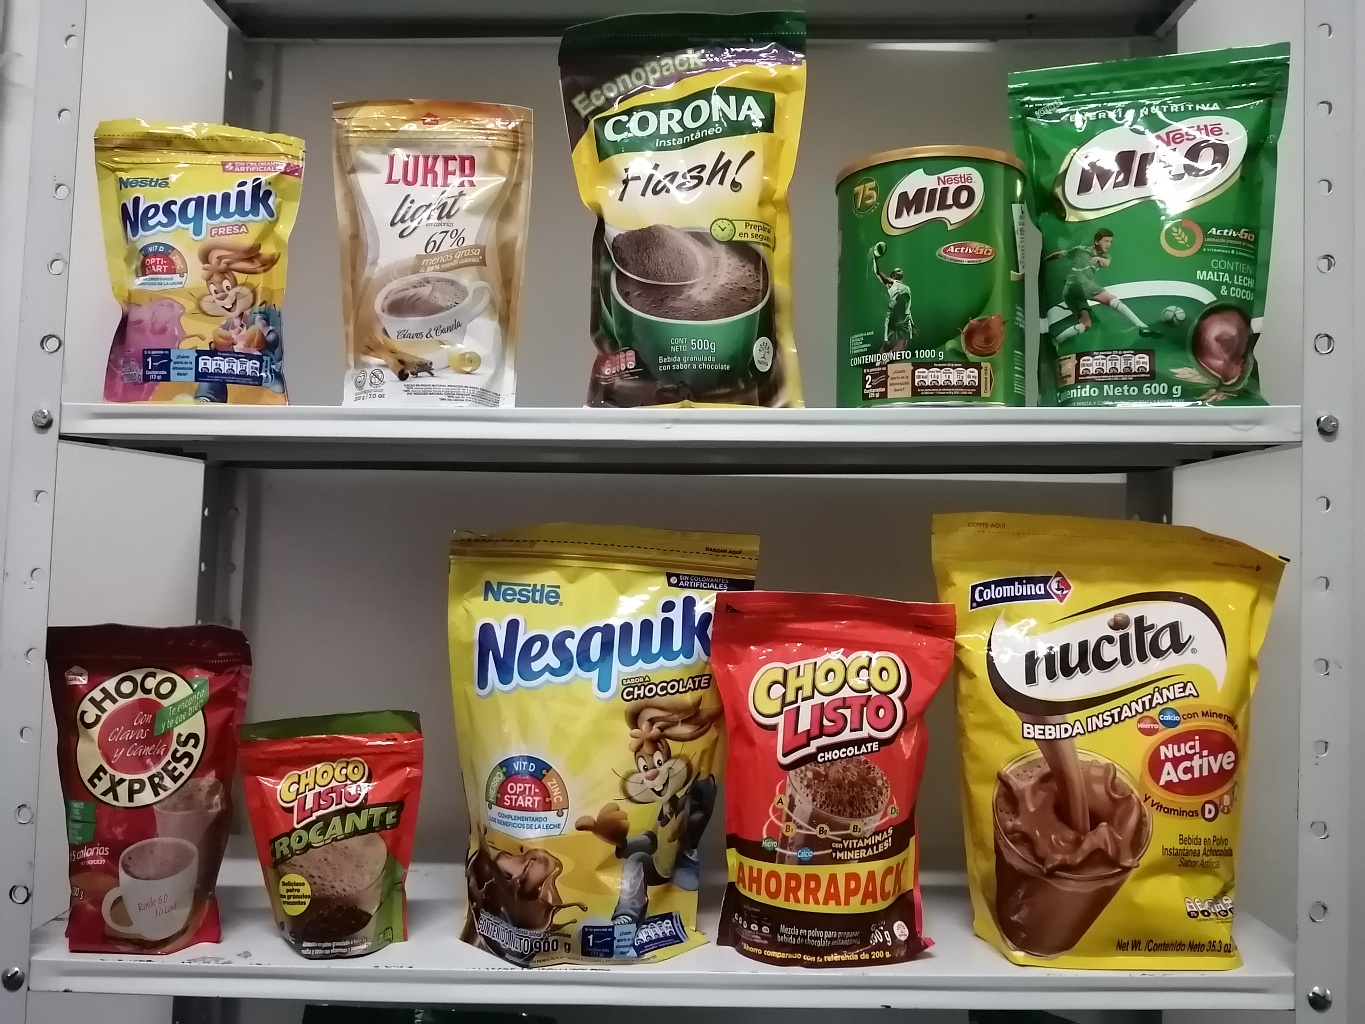COL0170102DYP10000: (239, 696, 439, 971)
COL0170103DYP40000: (705, 560, 958, 989)
COL0170305DYP20000: (68, 97, 324, 419)
